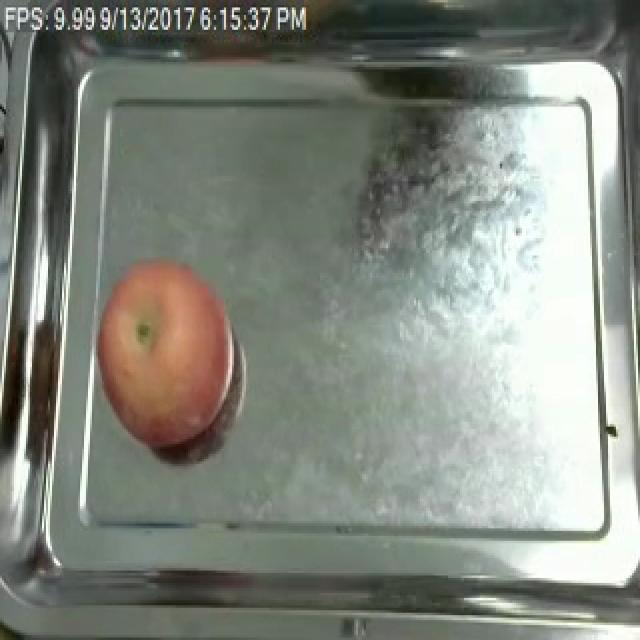apple: (97, 259, 234, 449)
